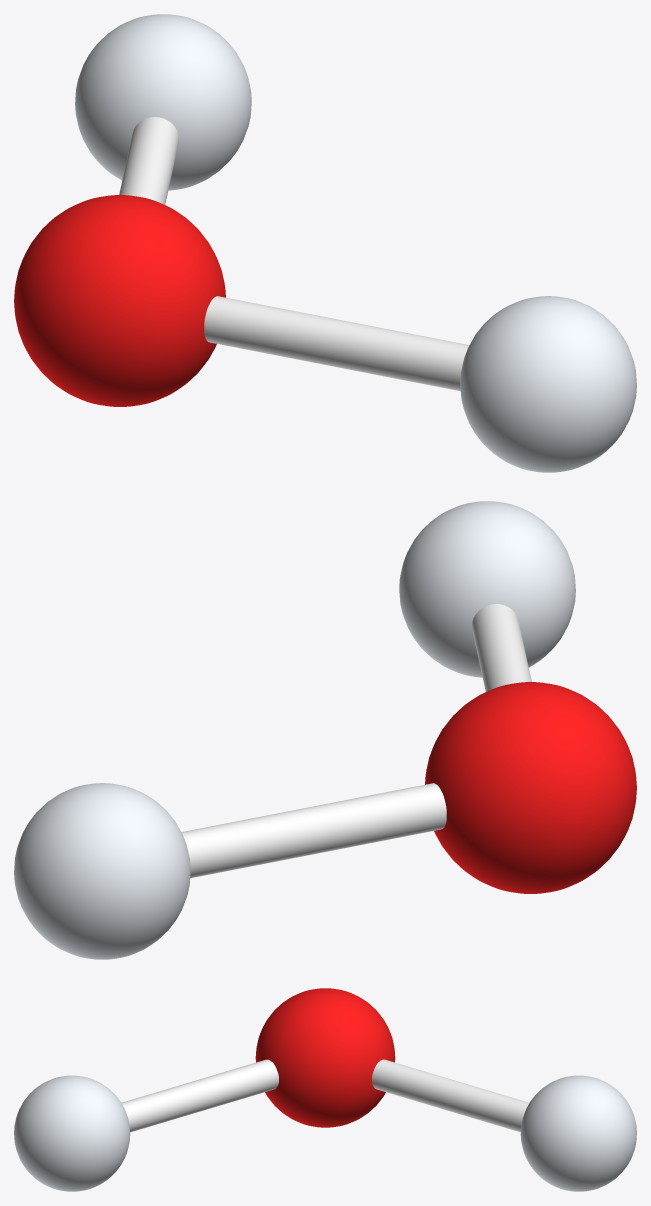
The model's file is water.fbx.
3 renders of one model, top to bottom at view 1: azimuth 30°, elevation 25°; view 2: azimuth 150°, elevation 25°; view 3: azimuth 270°, elevation 25°, orthographic. The views are drawn at different scales.
Visible parts, largest first — view 1: water; view 2: water; view 3: water.
Boxes of the visible parts, x1=… form: water: x1=14, y1=14, x2=636, y2=472; water: x1=14, y1=501, x2=636, y2=959; water: x1=14, y1=988, x2=636, y2=1191.
Bounding box in the file's own units: 79.18 × 36 × 161.
